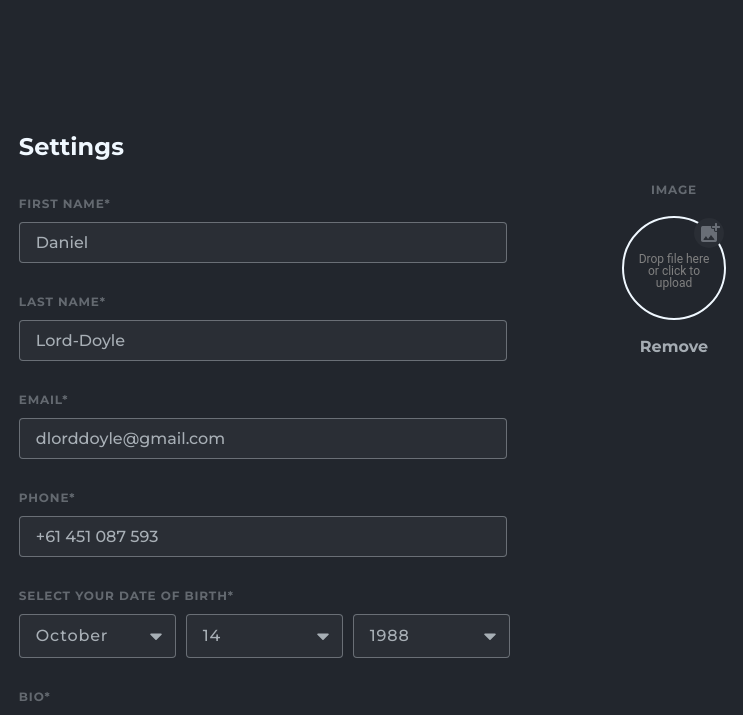
The DOB datepicker input › will save a new month in the dropdown when a user chooses a different month
Click the button with test id "monthButton". click: (97, 636)
box: x1=19 y1=614 x2=176 y2=658
(page scrolled)
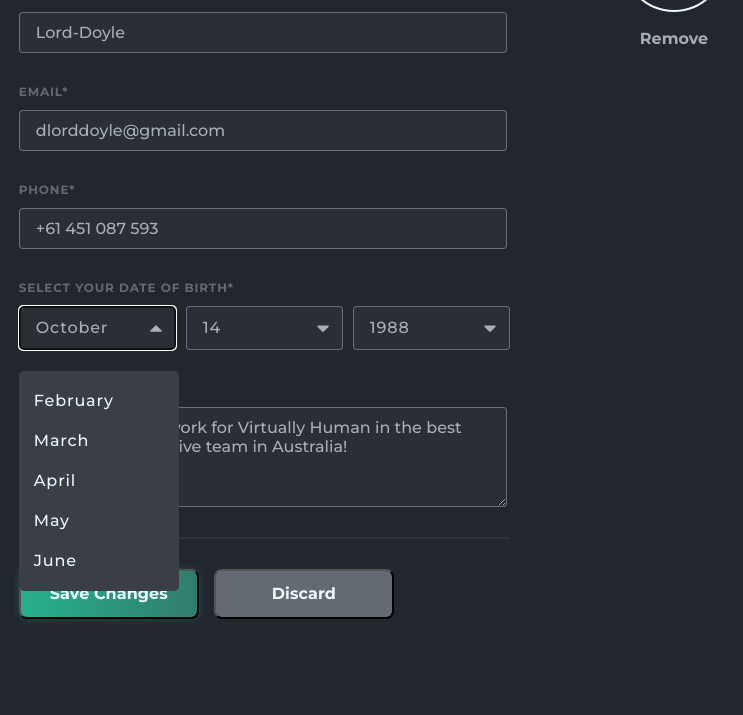
Check: the button with test id "monthButton" has class "dropdown-btn dropdown-btn-active", box x1=19 y1=306 x2=176 y2=350
Click the text "April". click: (55, 481)
box: x1=34 y1=471 x2=76 y2=490
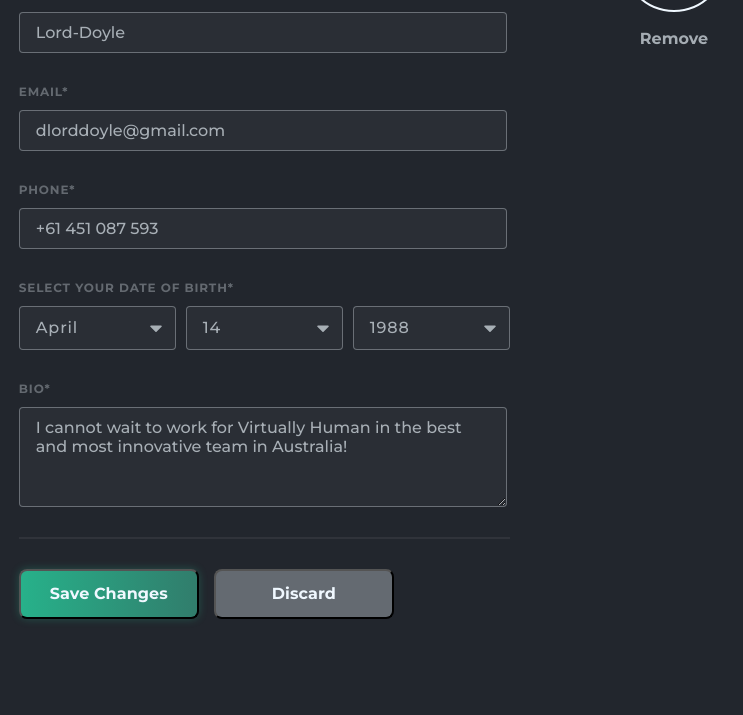
Check: the button with test id "monthButton" reads "April", box x1=36 y1=318 x2=78 y2=337
